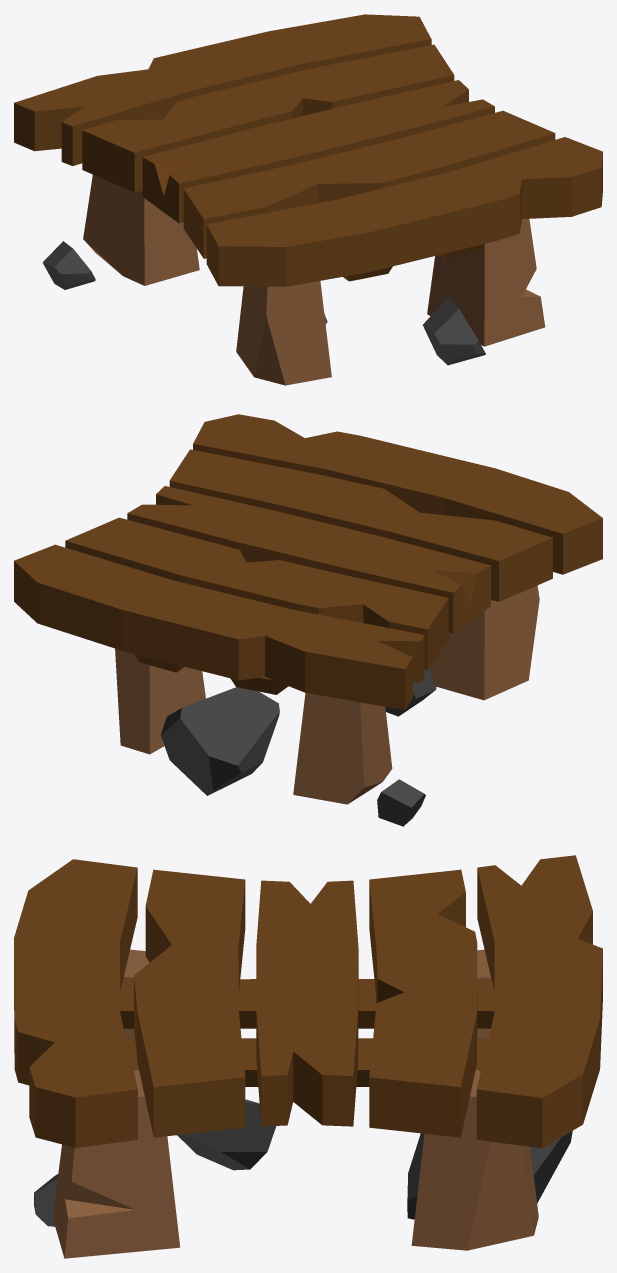
Rendered from WoodenTable2.fbx.
The picture shows the model from 3 angles, top to bottom: view 1: azimuth 30°, elevation 25°; view 2: azimuth 150°, elevation 25°; view 3: azimuth 270°, elevation 25°; orthographic projection. The views are drawn at different scales.
Visible parts, largest first — view 1: WoodenTable2; view 2: WoodenTable2; view 3: WoodenTable2.
Boxes of the visible parts, x1,y1,x2,y2 form: WoodenTable2: (14, 14, 602, 385); WoodenTable2: (14, 414, 602, 826); WoodenTable2: (14, 855, 602, 1258).
Size of the model in its own units: 84.91 by 39.65 by 87.04.
